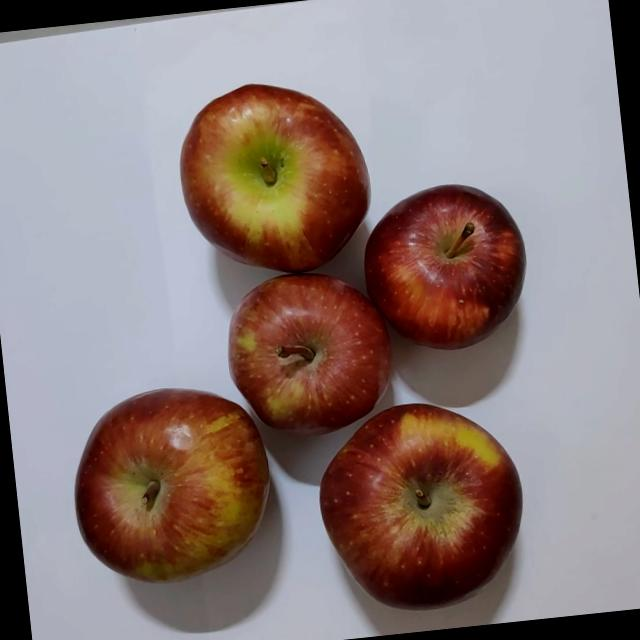apple: (306, 387, 546, 629), (61, 366, 290, 606), (164, 77, 387, 296), (218, 264, 404, 446), (358, 180, 536, 362)
